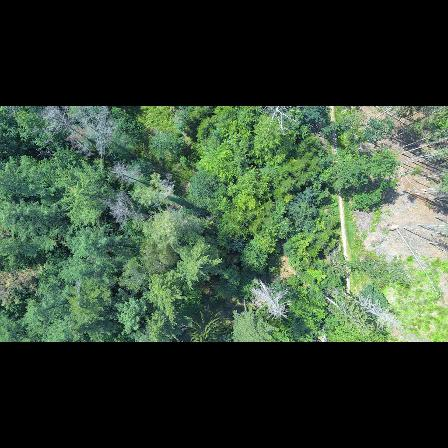Dead: (350, 292, 409, 332), (246, 276, 291, 323), (105, 193, 154, 225), (254, 106, 301, 139), (82, 111, 117, 154), (39, 108, 81, 139)
